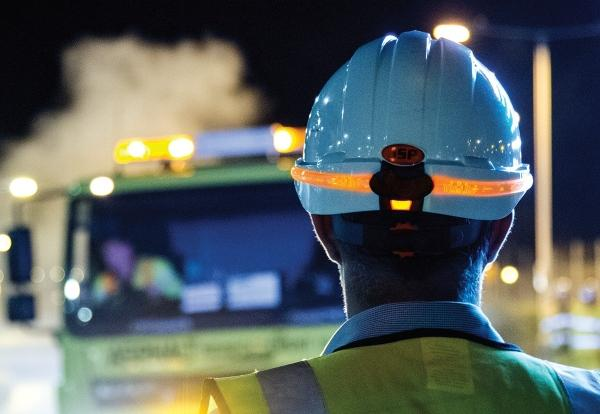helmet: (296, 32, 534, 221)
